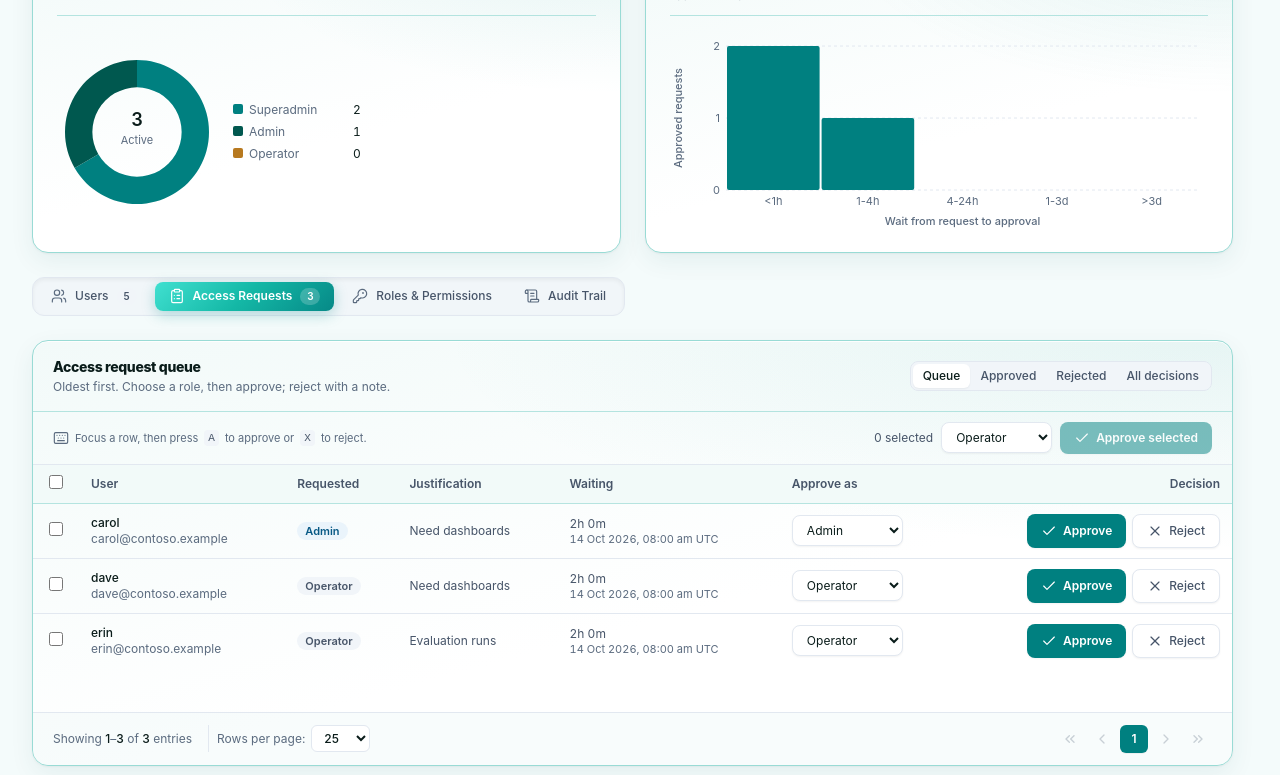
Scenario: Access Requests tab › shows the decision history in the Approved / All views (URL state)
The width and height of the screenshot is (1280, 775).
(page scrolled)
Expected: the row with test id "request-row-r-1" is shown, [33, 503, 1232, 558]
Click the radio button labelled "All decisions" at (1163, 376), box [1116, 364, 1209, 388]
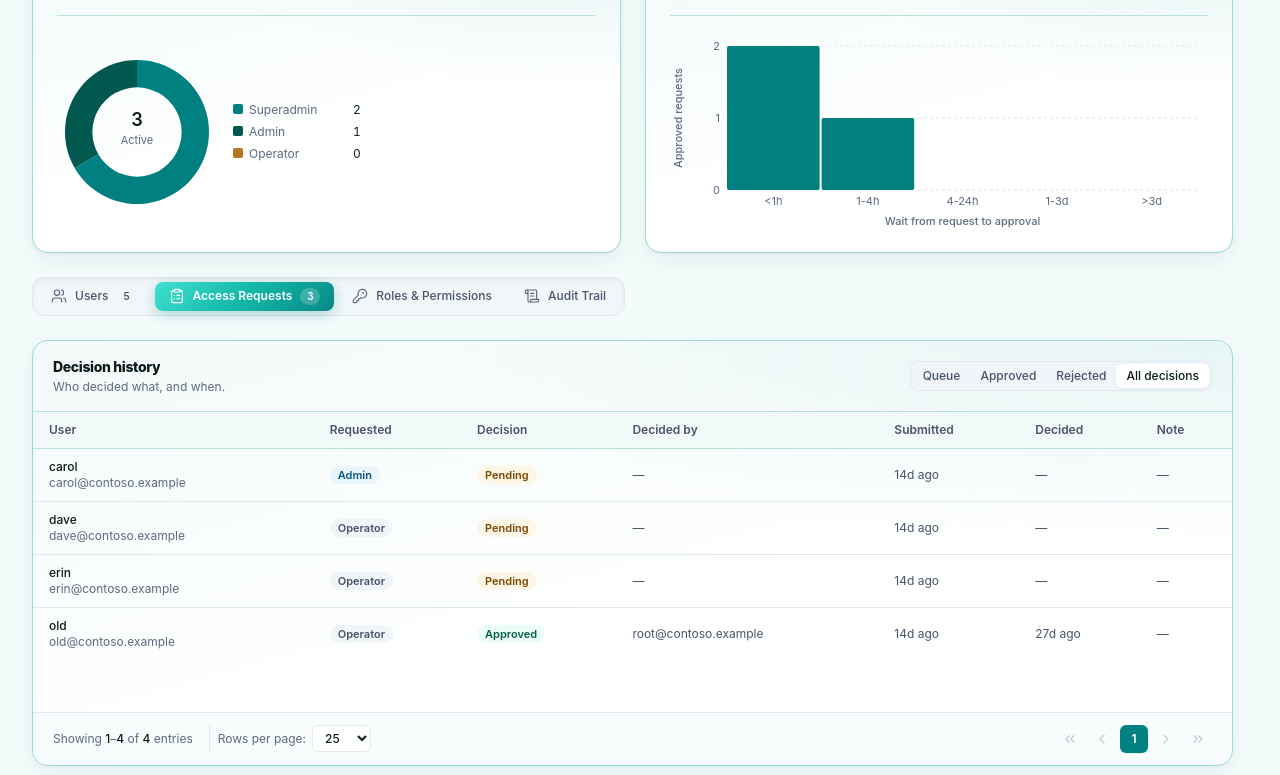
Now the heading "Decision history" is shown, box [53, 357, 160, 377]
Now the text "old@contoso.example" is shown, box [49, 634, 175, 649]
Now the column heading "Submitted" is shown, box [882, 412, 1023, 448]
